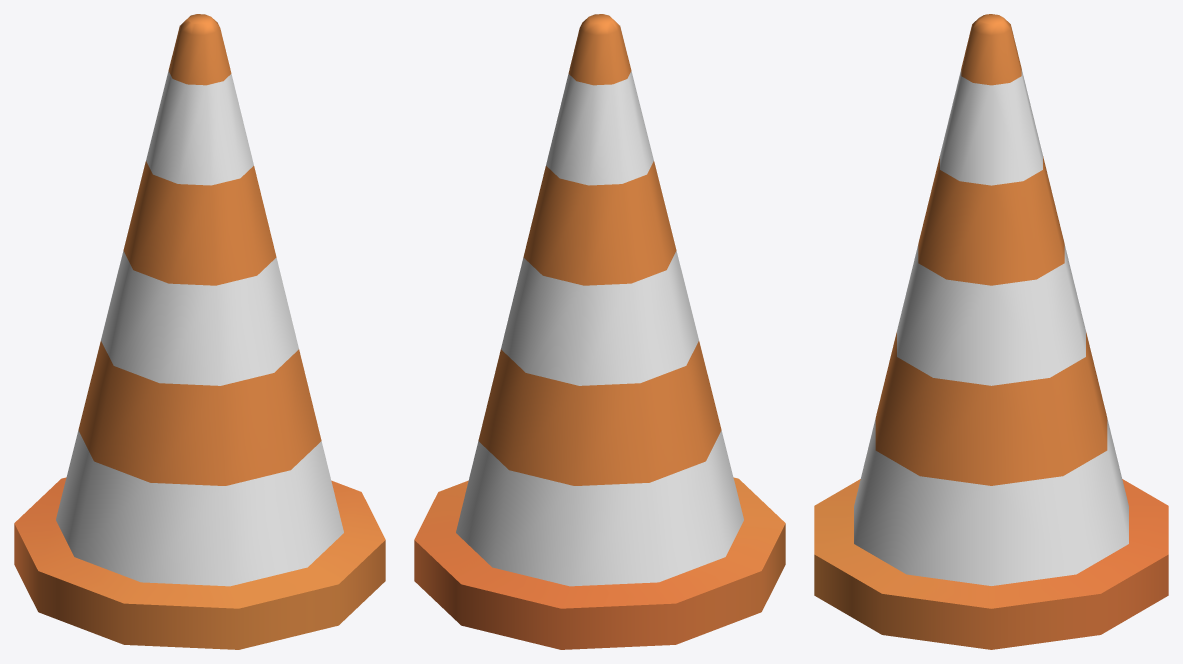
The model's file is tru canh bao.fbx.
The picture shows the model from 3 angles, left to right: view 1: azimuth 30°, elevation 25°; view 2: azimuth 150°, elevation 25°; view 3: azimuth 270°, elevation 25°; orthographic projection.
Visible parts, largest first — view 1: cot_bao_hieu; view 2: cot_bao_hieu; view 3: cot_bao_hieu.
Part boxes in pixels (bbox=[...]): cot_bao_hieu: bbox=[14, 14, 385, 649]; cot_bao_hieu: bbox=[414, 14, 785, 649]; cot_bao_hieu: bbox=[814, 14, 1168, 649].
Size of the model in its own units: 91.62 by 150 by 87.13.
